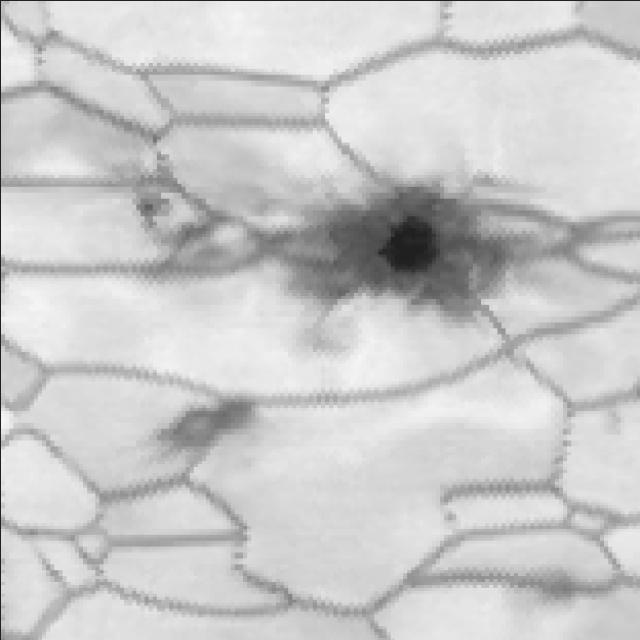good_void: (259, 173, 532, 332), (129, 385, 274, 468), (126, 208, 251, 282), (495, 563, 586, 613), (284, 316, 363, 362), (125, 181, 171, 225), (591, 402, 628, 439)
